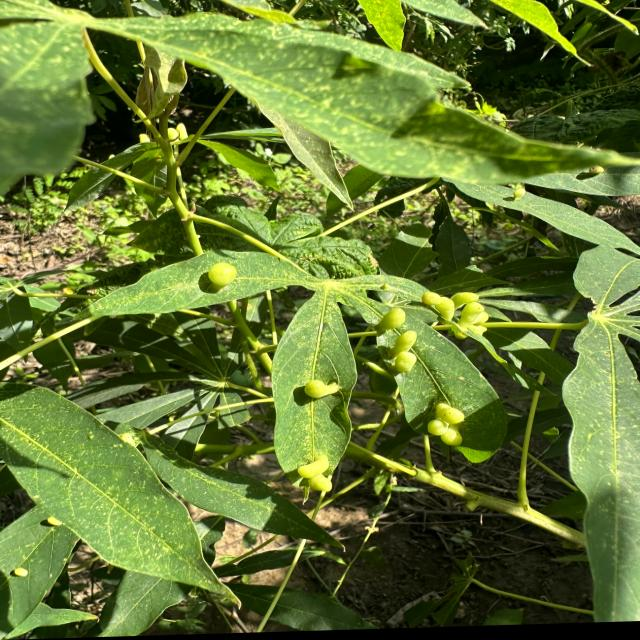Mosca: (408, 385, 477, 480), (406, 277, 487, 345), (378, 295, 425, 396), (289, 439, 338, 519), (294, 364, 366, 417), (201, 252, 246, 307), (574, 148, 621, 194), (38, 493, 74, 545), (493, 166, 539, 203), (7, 559, 46, 598)
